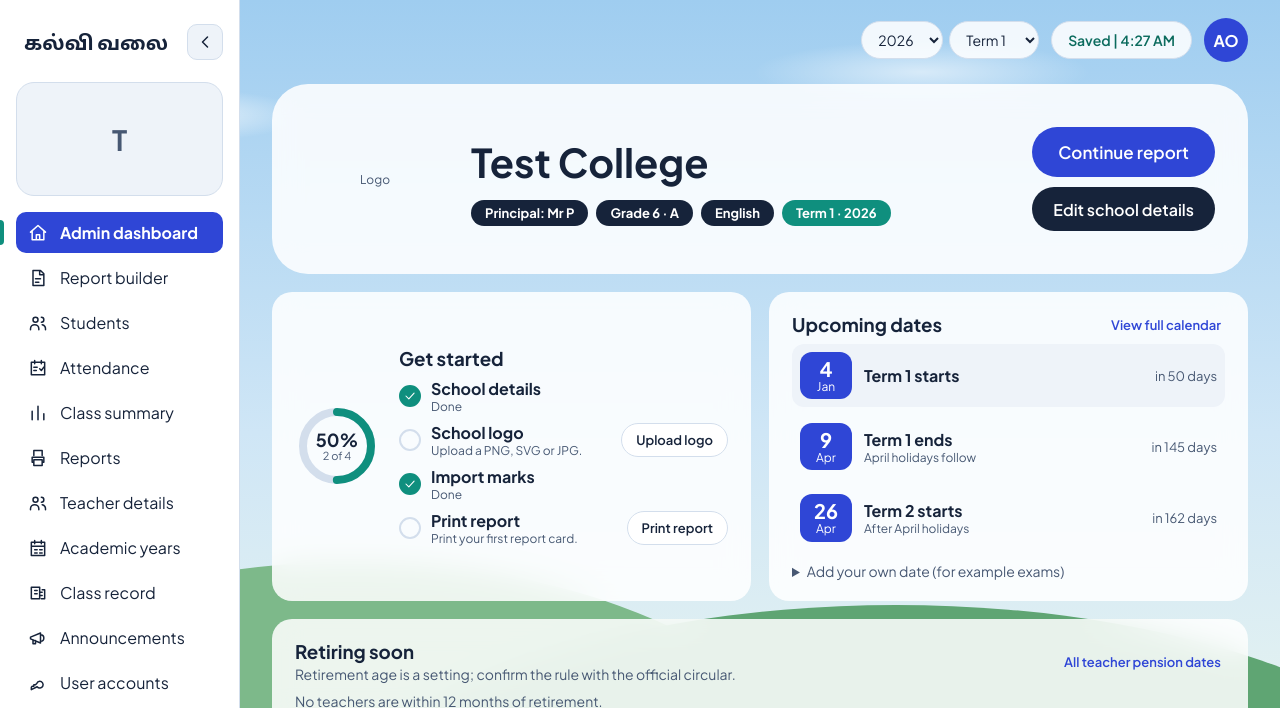
Test: admin, teacher and student dashboards › summarizes and filters academic years
Click the button "Academic years": click(120, 548) [16, 527, 223, 568]
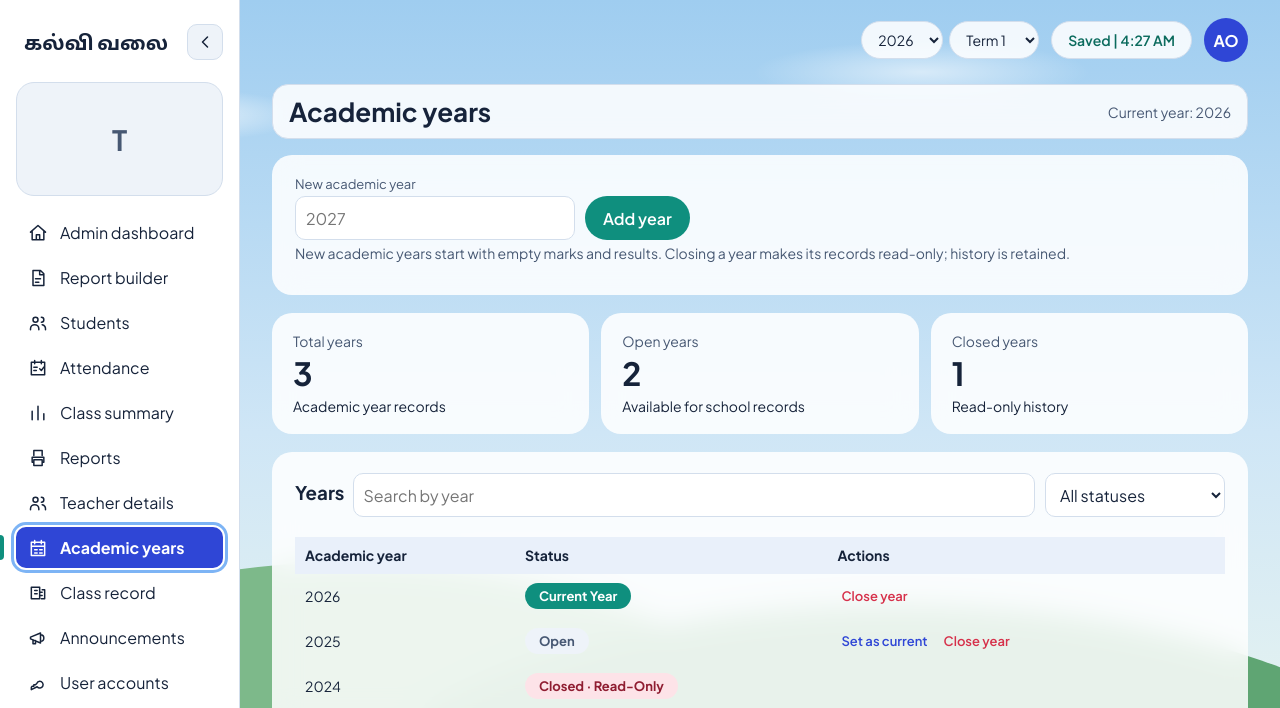
Check: the text "Academic year records" is shown, box [293, 397, 446, 415]
Check: the text "Available for school records" is shown, box [622, 397, 805, 415]
Check: the text "Read-only history" is shown, box [952, 397, 1068, 415]
Select "Closed" in the dropdown named "Filter academic years": (1135, 495) [1045, 473, 1225, 517]
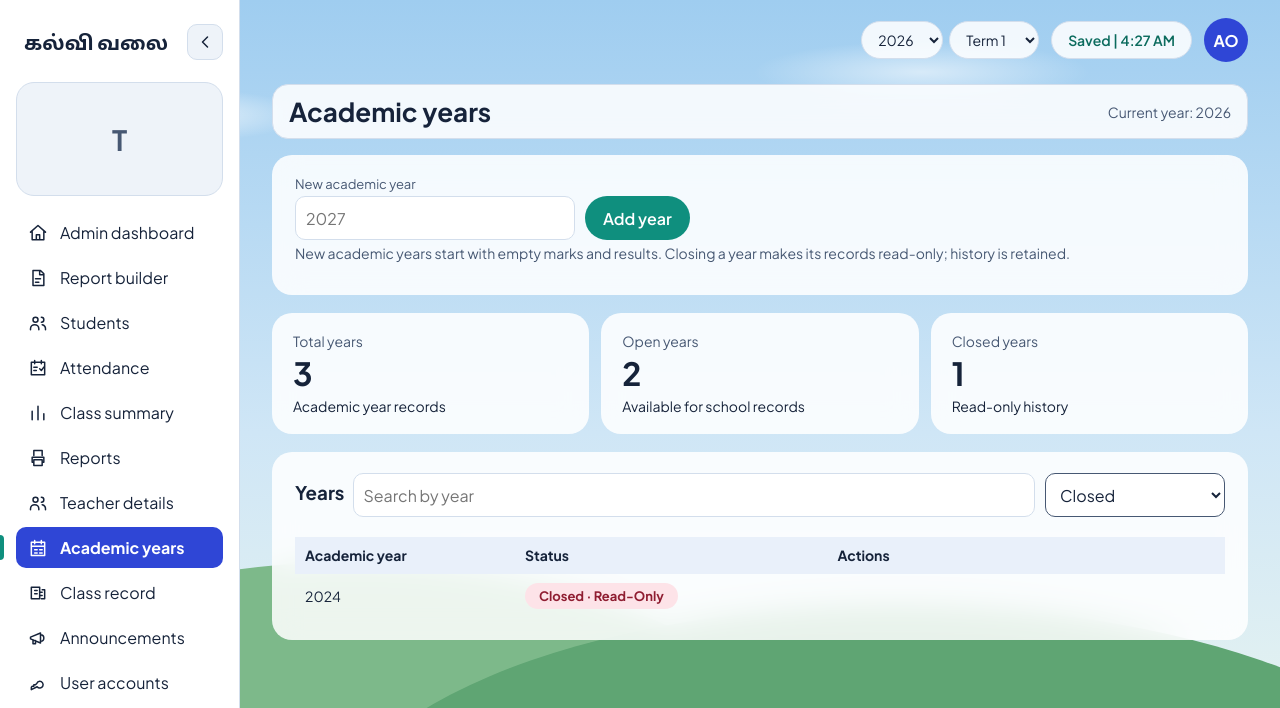
Check: the text "2024" is shown, box [295, 574, 515, 619]
Check: the text "2025" is gone
In the search field named "Search academic years": (694, 495) [352, 473, 1035, 517], type "2023"
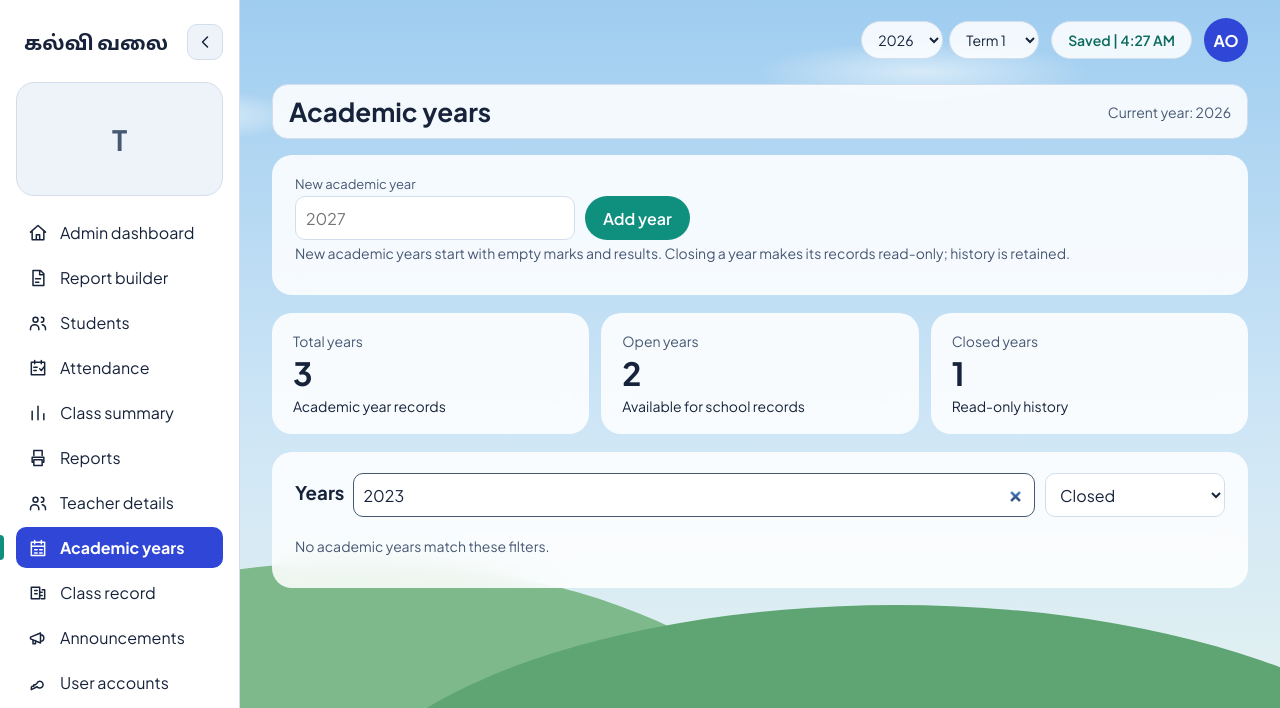
Check: the text "No academic years match these filters." is shown, box [295, 537, 550, 555]
